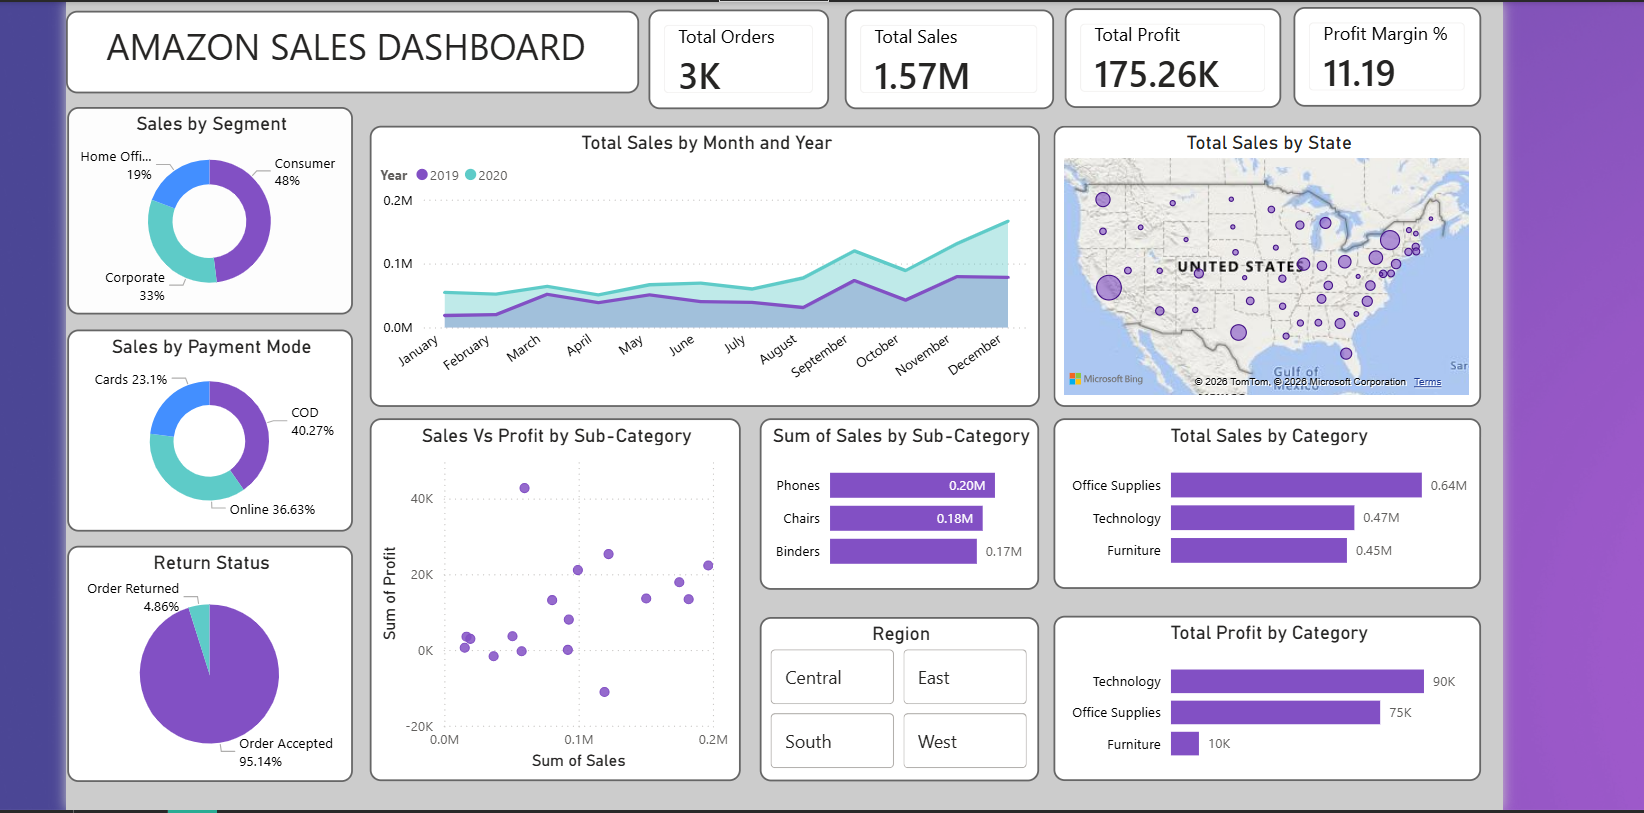

What the dashboard file says about the page in this screenshot:
{"tool":"powerbi","page":{"name":"Page 1","canvas":[1280,720],"ordinal":0},"visuals":[{"type":"cardVisual","fields":{"Data":["dataset.Total Sales"]},"box":[693,7,186,89],"z":0},{"type":"cardVisual","fields":{"Data":["dataset.Total Orders"]},"box":[519,7,161,89],"z":1000},{"type":"cardVisual","fields":{"Data":["dataset.Total Profit"]},"box":[889,6,193,89],"z":2000},{"type":"cardVisual","fields":{"Data":["dataset.Profit Margin %"]},"box":[1093,5,167,89],"z":3000},{"type":"clusteredBarChart","fields":{"Category":["dataset.Category"],"Y":["dataset.Total Sales"]},"box":[879,371,381,152],"z":4000},{"type":"clusteredBarChart","fields":{"Category":["dataset.Category"],"Y":["dataset.Total Profit"]},"box":[879,547,381,147],"z":5000},{"type":"donutChart","title":"Sales by Segment","fields":{"Category":["dataset.Segment"],"Y":["dataset.Total Sales"]},"box":[1,94,254,185],"z":6000},{"type":"textbox","box":[0,7.5,510,73.4],"z":7000},{"type":"areaChart","fields":{"Y":["dataset.Total Sales"],"Category":["dataset.Order Date.Variation.Date Hierarchy.Month"],"Series":["dataset.Order Date.Variation.Date Hierarchy.Year"]},"box":[270,110,597,250],"z":8000},{"type":"donutChart","title":"Sales by Payment Mode","fields":{"Category":["dataset.Payment Mode"],"Y":["dataset.Order Count"]},"box":[1,292,254,180],"z":9000},{"type":"map","fields":{"Category":["dataset.State"],"Size":["dataset.Total Sales"]},"box":[879,110,381,250],"z":10000},{"type":"pieChart","title":"Return Status","fields":{"Category":["dataset.Return_Status"],"Y":["CountNonNull(dataset.Order ID)"]},"box":[1,484,254,210],"z":11000},{"type":"clusteredBarChart","fields":{"Category":["dataset.Sub-Category"],"Y":["Sum(dataset.Sales)"]},"box":[618,371,249,153],"z":12000},{"type":"scatterChart","title":"Sales Vs Profit by Sub-Category","fields":{"X":["Sum(dataset.Sales)"],"Y":["Sum(dataset.Profit)"],"Category":["dataset.Sub-Category"]},"box":[270,371,330,323],"z":13000},{"type":"advancedSlicerVisual","fields":{"Values":["dataset.Region"]},"box":[618.2,547.3,248.8,146.8],"z":14000}]}

Visuals, with their boxes in screenshot pixels (x1, y1, x2, y2):
cardVisual - dataset.Total Sales: x1=836 y1=8 x2=1044 y2=107
cardVisual - dataset.Total Orders: x1=642 y1=8 x2=822 y2=107
cardVisual - dataset.Total Profit: x1=1055 y1=7 x2=1270 y2=106
cardVisual - dataset.Profit Margin %: x1=1282 y1=6 x2=1468 y2=105
clusteredBarChart - dataset.Category x dataset.Total Sales: x1=1044 y1=413 x2=1468 y2=583
clusteredBarChart - dataset.Category x dataset.Total Profit: x1=1044 y1=609 x2=1468 y2=773
"Sales by Segment" donutChart: x1=65 y1=105 x2=348 y2=311
textbox: x1=64 y1=8 x2=632 y2=90
areaChart - dataset.Total Sales x dataset.Order Date.Variation.Date Hierarchy.Month: x1=365 y1=123 x2=1030 y2=401
"Sales by Payment Mode" donutChart: x1=65 y1=325 x2=348 y2=526
map - dataset.State x dataset.Total Sales: x1=1044 y1=123 x2=1468 y2=401
"Return Status" pieChart: x1=65 y1=539 x2=348 y2=773
clusteredBarChart - dataset.Sub-Category x Sum(dataset.Sales): x1=753 y1=413 x2=1030 y2=584
"Sales Vs Profit by Sub-Category" scatterChart: x1=365 y1=413 x2=733 y2=773
advancedSlicerVisual - dataset.Region: x1=753 y1=610 x2=1030 y2=773
